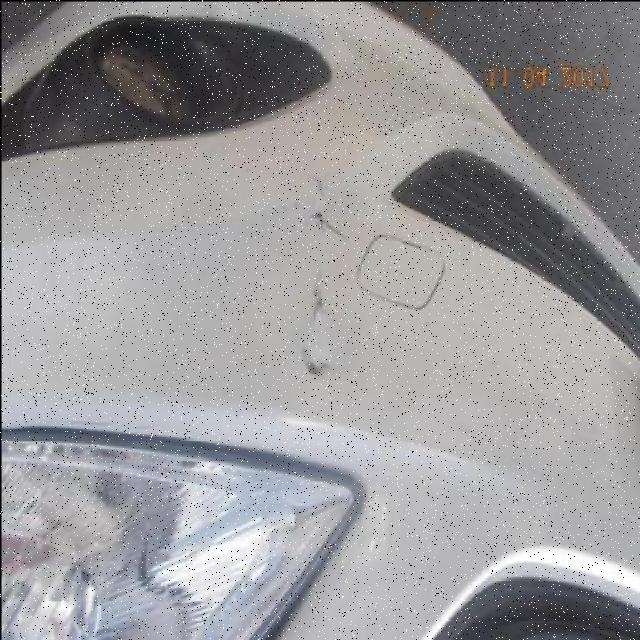damage: (306, 167, 344, 250), (297, 335, 332, 386), (308, 272, 327, 330)
